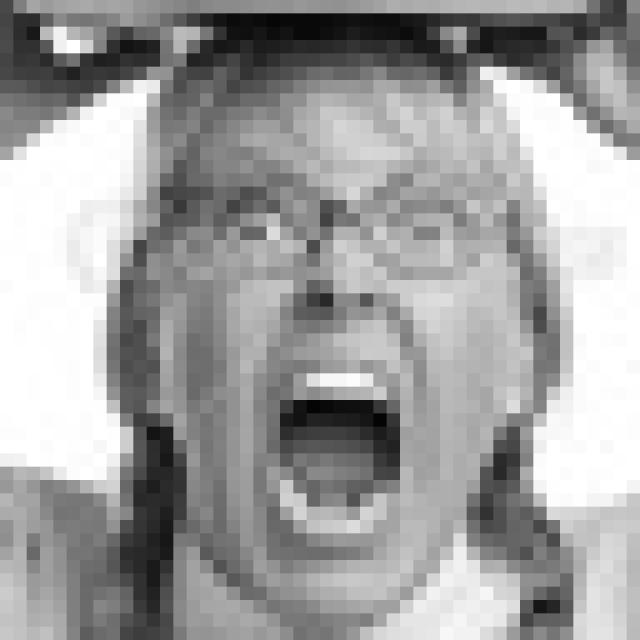angry: (194, 161, 489, 558)
